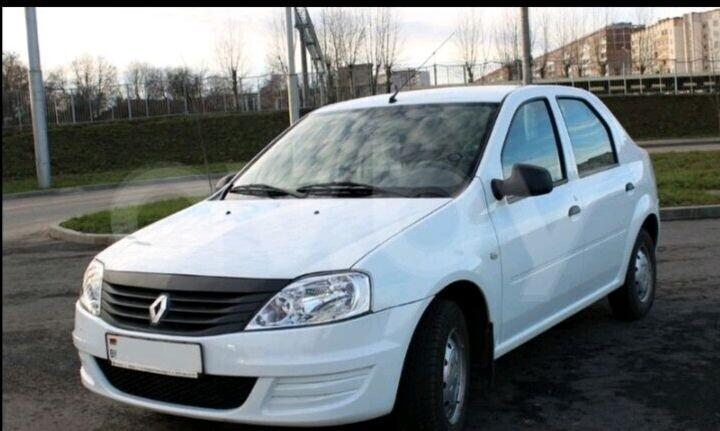Logan_2013-2018: (69, 81, 668, 431)
